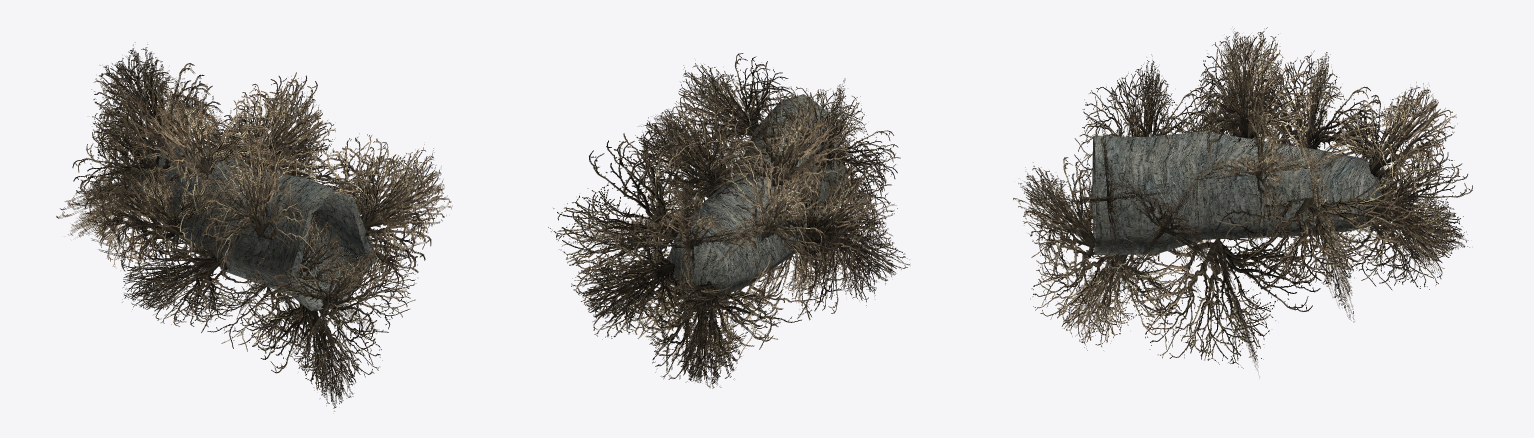
File: poi_all_lair_bramble_l2.fbx
3 views of the same model, side by side, from view 1: azimuth 30°, elevation 25°; view 2: azimuth 150°, elevation 25°; view 3: azimuth 270°, elevation 25° (orthographic). The views are drawn at different scales.
Parts seen in each view (by area): view 1: mesh_node; view 2: mesh_node; view 3: mesh_node.
Boxes of the visible parts, bbox=[...] form: mesh_node: bbox=[56, 42, 452, 411]; mesh_node: bbox=[548, 53, 909, 388]; mesh_node: bbox=[1013, 27, 1472, 376].
Bounding box in the file's own units: 3.73 × 3.62 × 5.05.
Materials: 2 (2 with a texture image).
